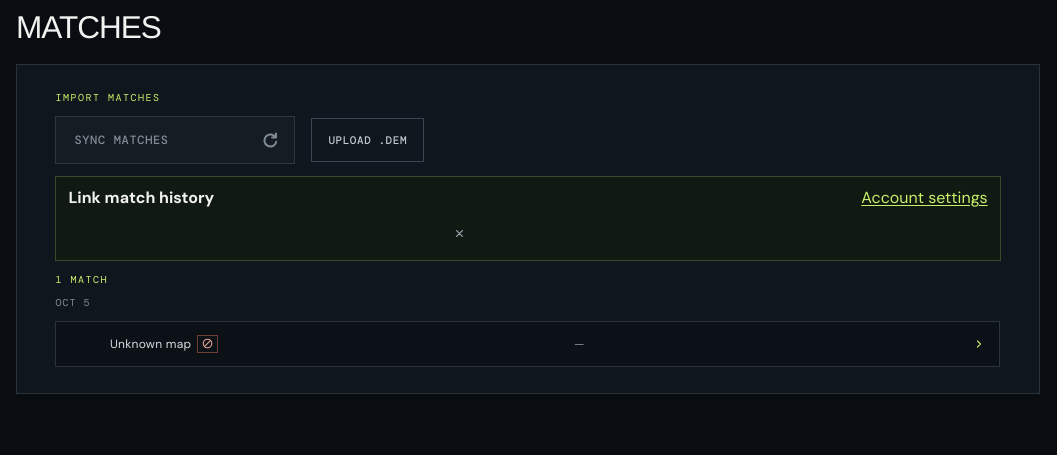
Test: match list and per-round report (real API response shapes) › shows unavailable / stub matches without a report
Expected: the 3rd icon is shown, [203, 338, 214, 349]
Click the button "Unknown map —" at (151, 344), box [55, 321, 1001, 367]
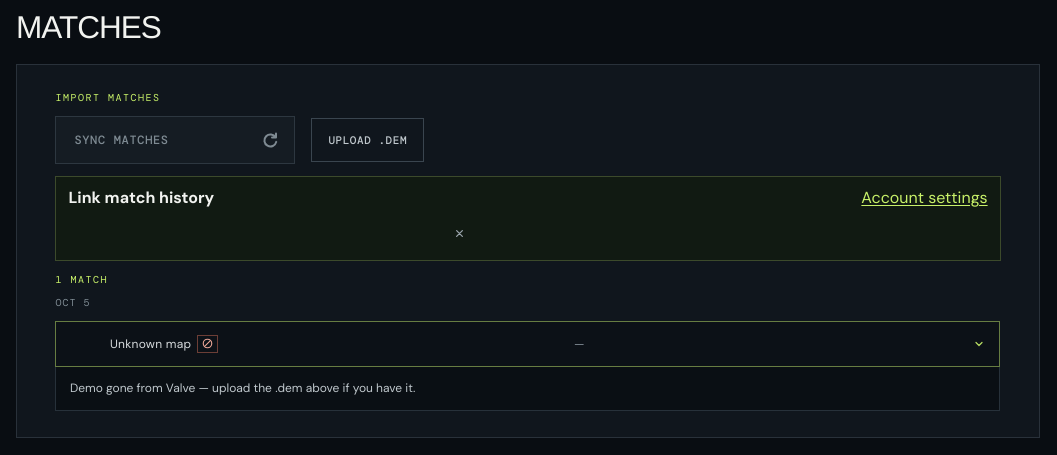
Now the element showing "Demo gone from Valve — upload the .dem above if you have it." is shown, box [55, 367, 1001, 411]
